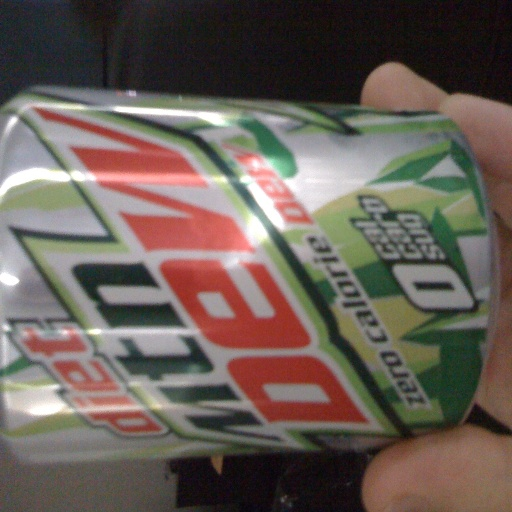hand: (360, 56, 511, 511)
